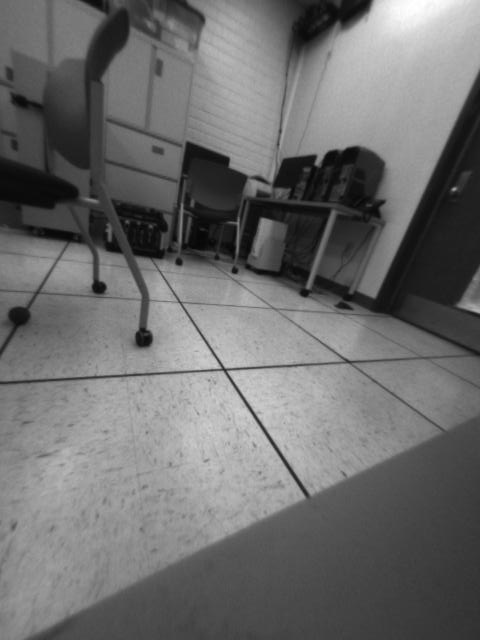dogtoy: (4, 298, 37, 330)
